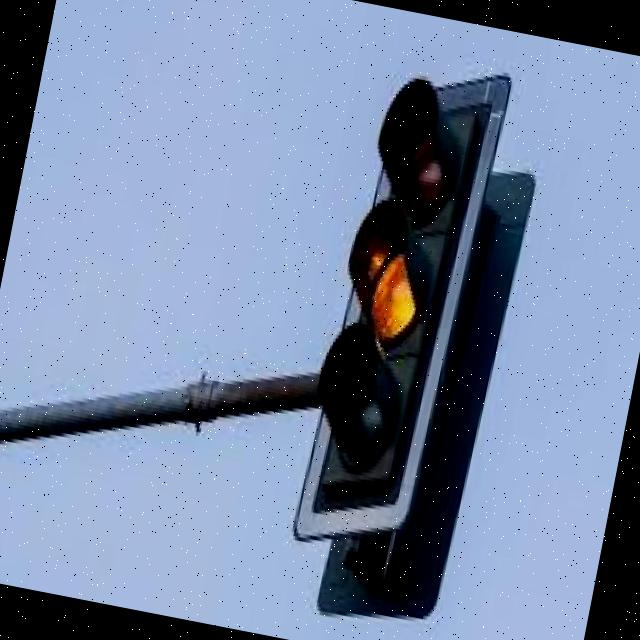yellow_light: (298, 63, 486, 513)
